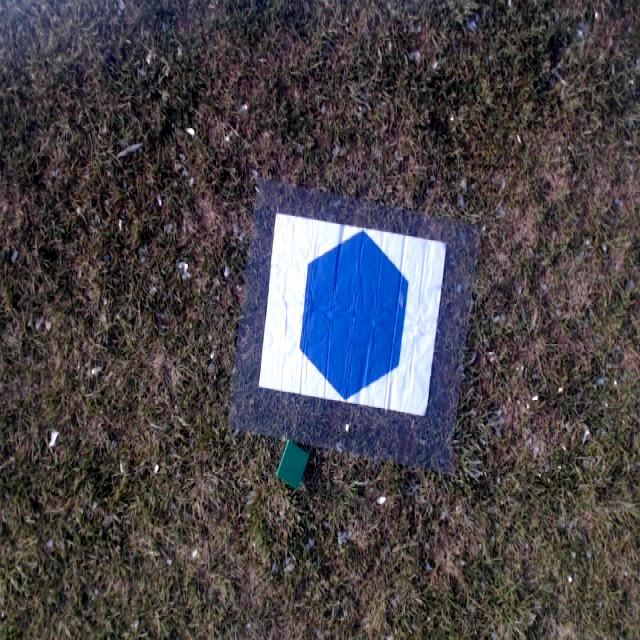blue_hexagon: (298, 233, 406, 404)
